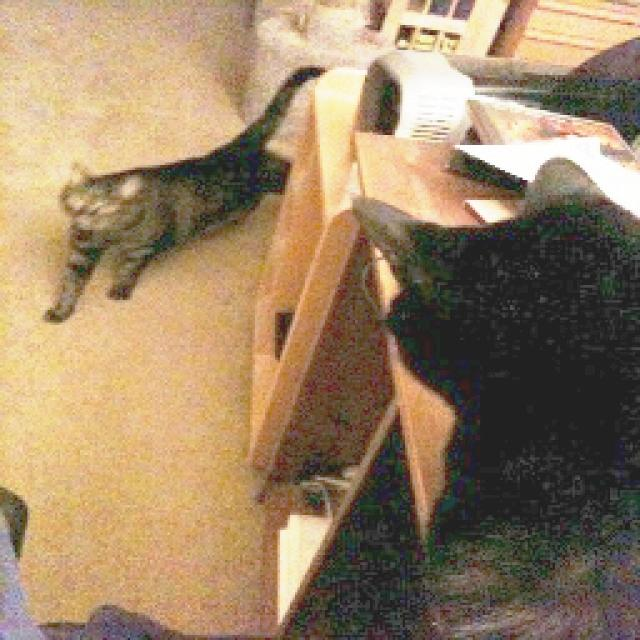cat: (343, 129, 640, 640), (43, 51, 321, 336)
